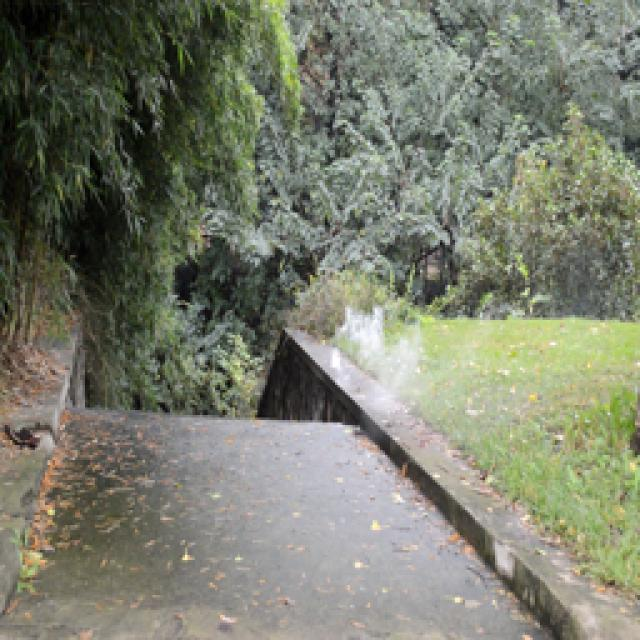smoke: (328, 303, 430, 415)
